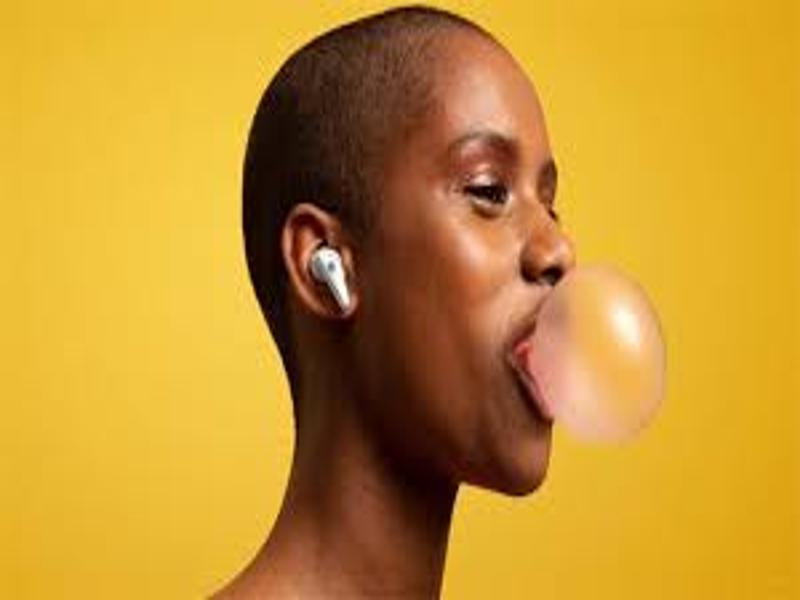headphone: (309, 250, 353, 312)
